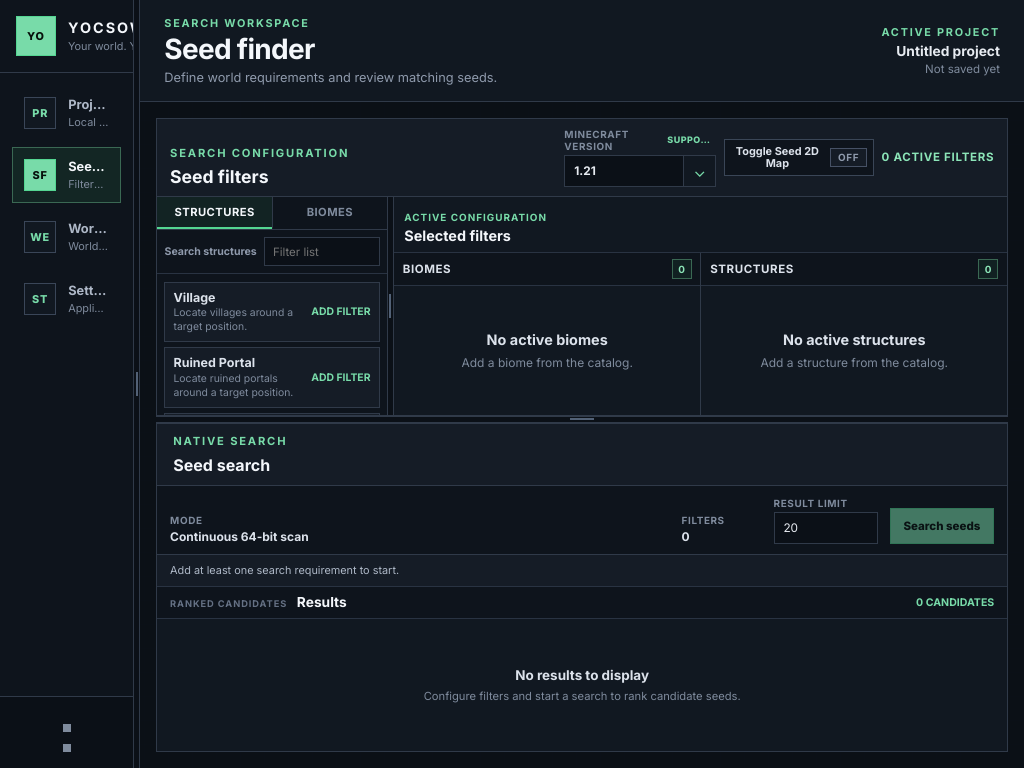
App › connects the Minecraft version selector to the active project
This screenshot has width=1024, height=768.
Click the dropdown labelled "Minecraft version" at (624, 171), box top-left (565, 156), bottom-right (683, 186)
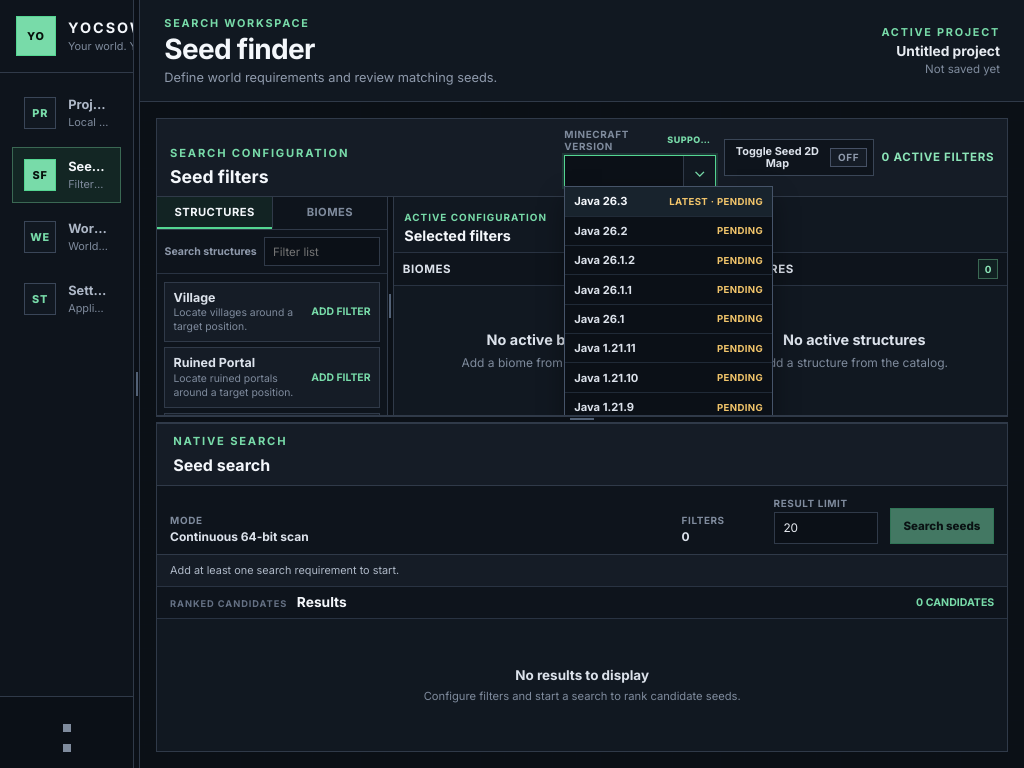
Type keys "1.20.6"
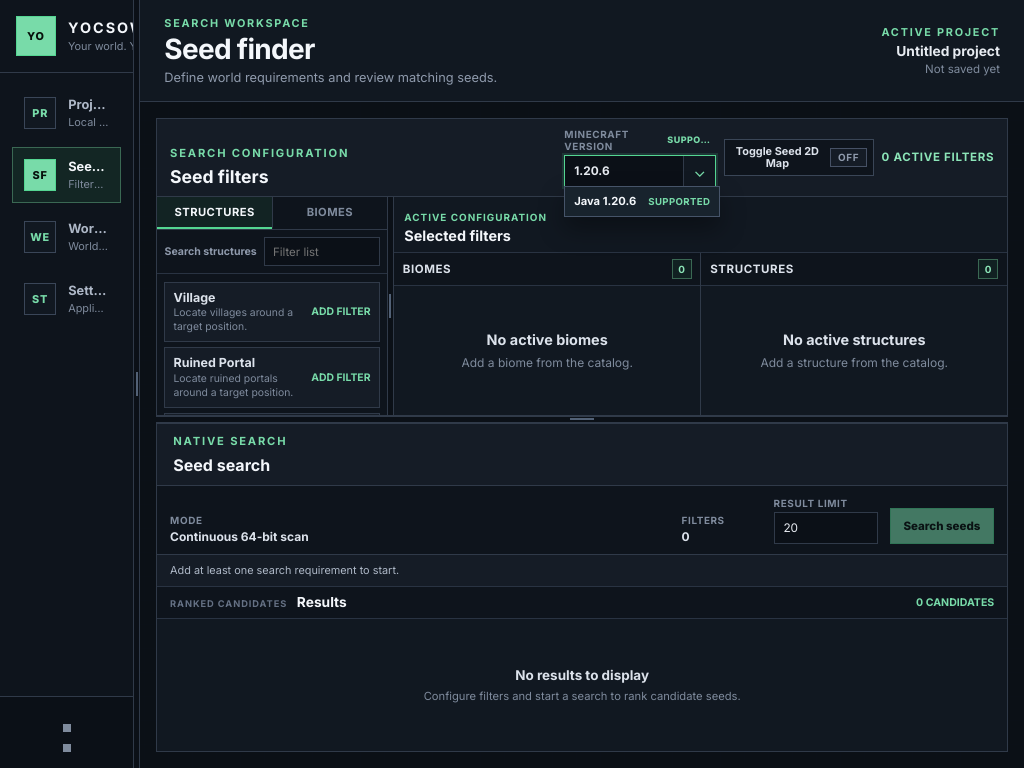
Click the option "Java 1.20.6 Supported" at (642, 201), box top-left (565, 187), bottom-right (719, 216)
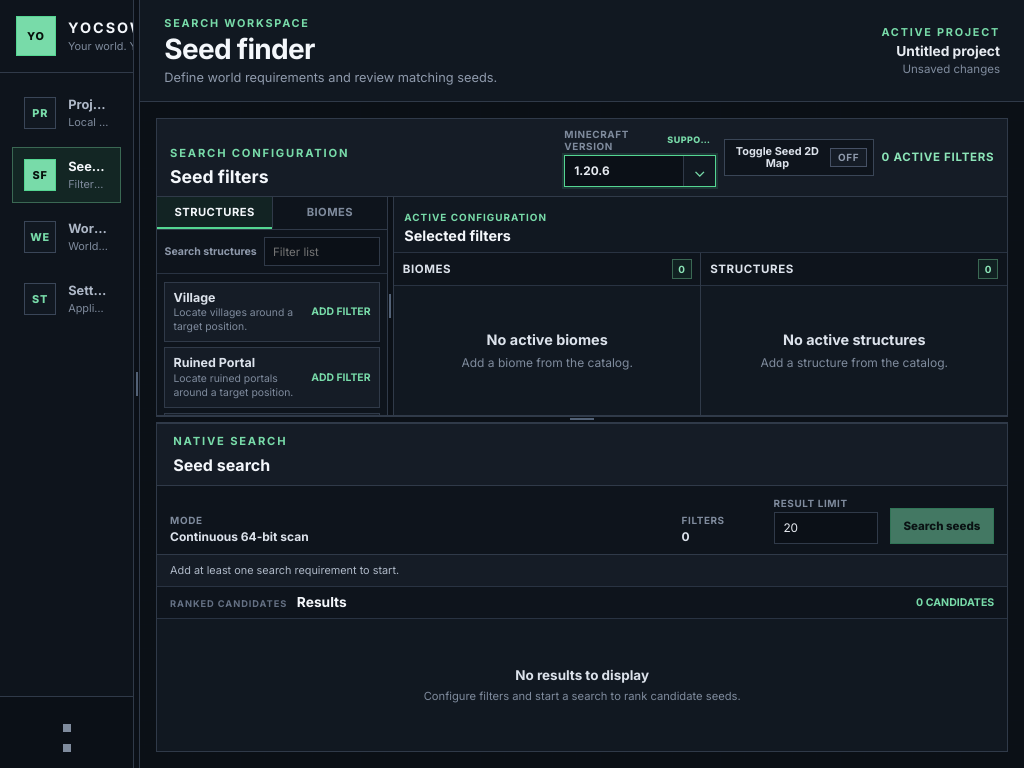
Result: the dropdown labelled "Minecraft version" holds "1.20.6" at top-left (565, 156), bottom-right (683, 186)
Result: the text "Unsaved changes" is shown at top-left (902, 62), bottom-right (1000, 76)
